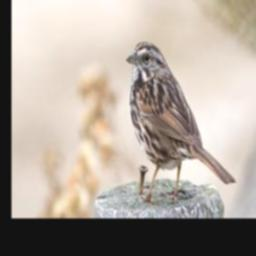Sparrow: (125, 37, 238, 204)
